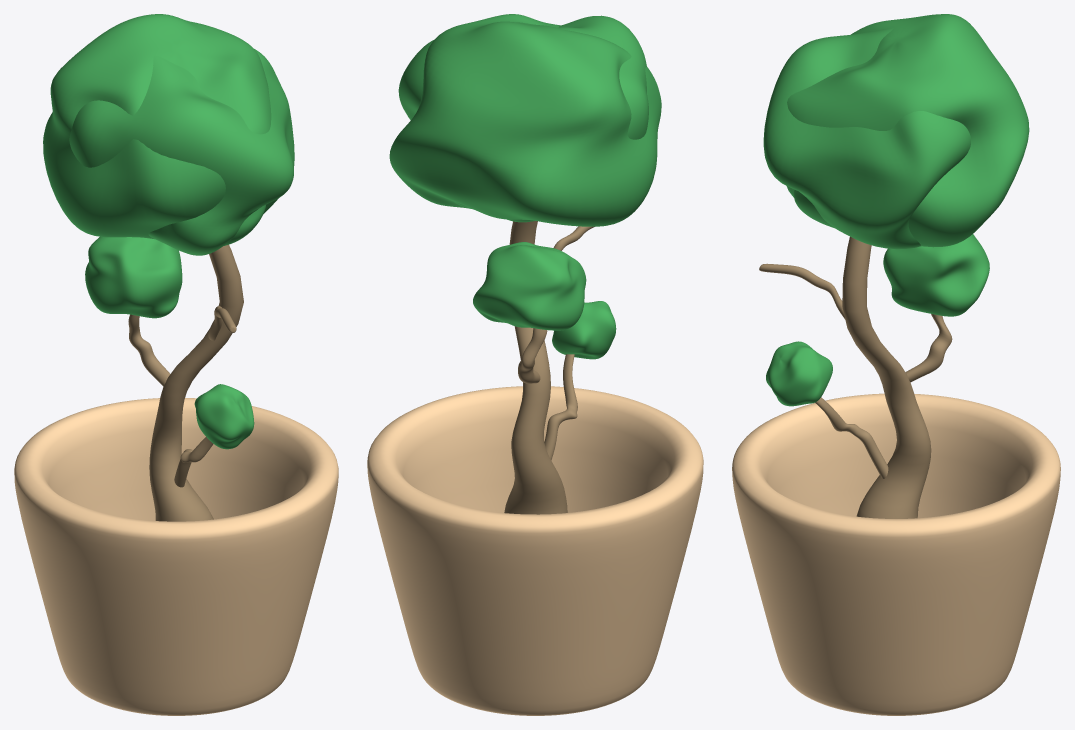
Rendered from PottedPlant.fbx.
3 views of the same model, side by side, from view 1: azimuth 30°, elevation 25°; view 2: azimuth 150°, elevation 25°; view 3: azimuth 270°, elevation 25° (orthographic). The views are drawn at different scales.
Parts seen in each view (by area): view 1: PottedPlant; view 2: PottedPlant; view 3: PottedPlant.
Part boxes in pixels (box(x1,y1,x2,y2)): PottedPlant: box(14, 14, 338, 715); PottedPlant: box(367, 14, 703, 715); PottedPlant: box(732, 14, 1060, 715).
Size of the model in its own units: 7.63 by 16.53 by 7.63.
